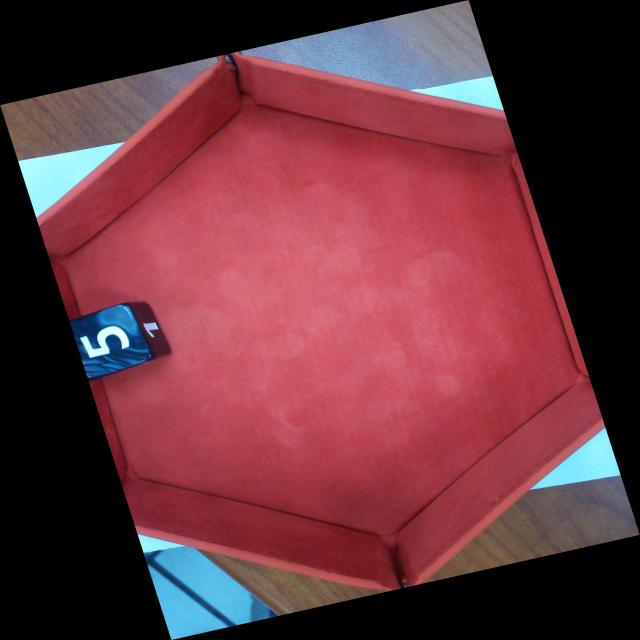dice: (69, 300, 157, 378)
